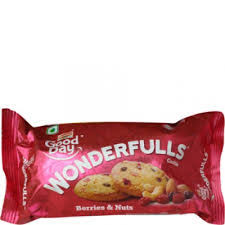gooday-small: (1, 105, 225, 222)
